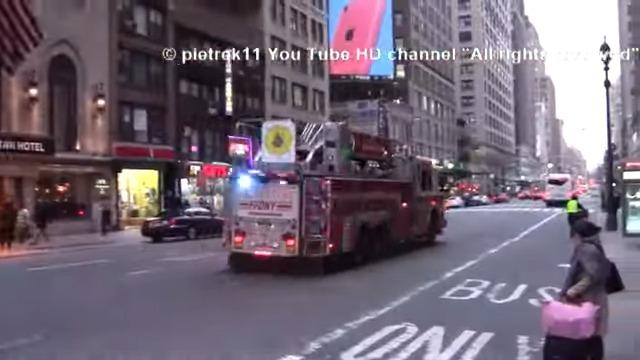Fire-engine: (220, 117, 448, 274)
